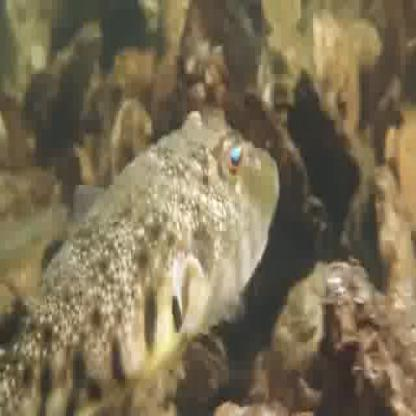Oyster- Indeterminate: (178, 332, 231, 404)
Oyster-Closed: (267, 262, 416, 416), (37, 22, 103, 158), (373, 163, 416, 317), (109, 94, 157, 181), (396, 119, 416, 223)
Oyster-Open: (237, 74, 371, 261)
